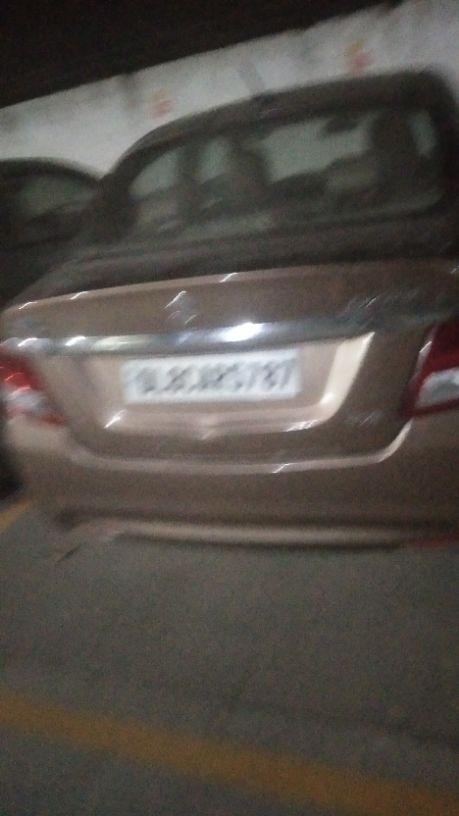license_plate: (117, 347, 303, 405)
